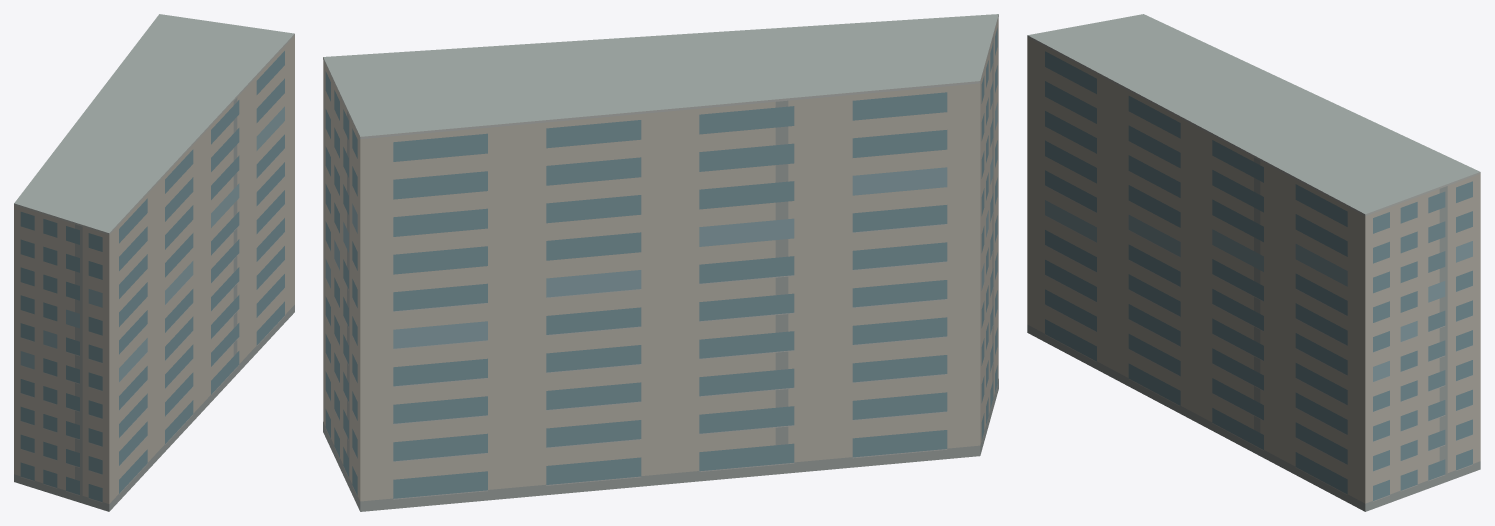
File: residential-91f0b1a2-1118-4118-8588-f8b3052964c6.glb
The picture shows the model from 3 angles, left to right: view 1: azimuth 30°, elevation 25°; view 2: azimuth 150°, elevation 25°; view 3: azimuth 270°, elevation 25°; orthographic projection. The views are drawn at different scales.
Parts seen in each view (by area): view 1: residential-91f0b1a2-1118-4118-8588-f8b3052964c6.tmp; view 2: residential-91f0b1a2-1118-4118-8588-f8b3052964c6.tmp; view 3: residential-91f0b1a2-1118-4118-8588-f8b3052964c6.tmp.
Part boxes in pixels (x1,y1,x2,y2): residential-91f0b1a2-1118-4118-8588-f8b3052964c6.tmp: (14, 14, 294, 511); residential-91f0b1a2-1118-4118-8588-f8b3052964c6.tmp: (323, 14, 998, 511); residential-91f0b1a2-1118-4118-8588-f8b3052964c6.tmp: (1027, 14, 1480, 511).
Bounding box in the file's own units: 54.87 × 38 × 52.44.
